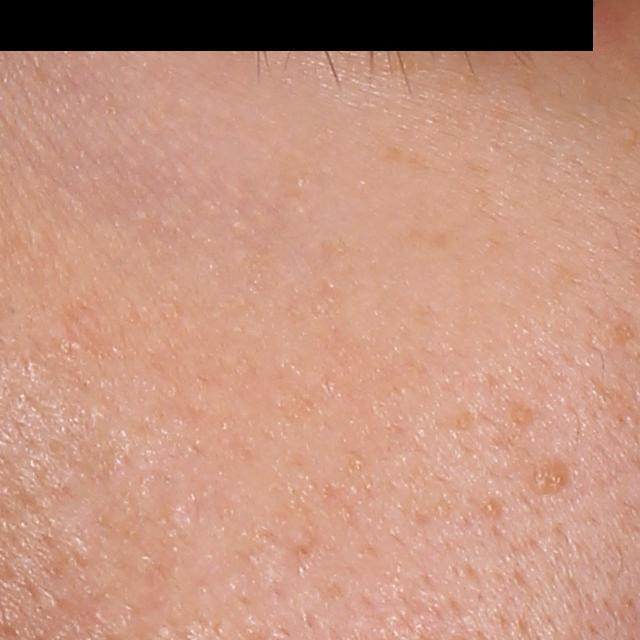comedo: (481, 496, 499, 518)
